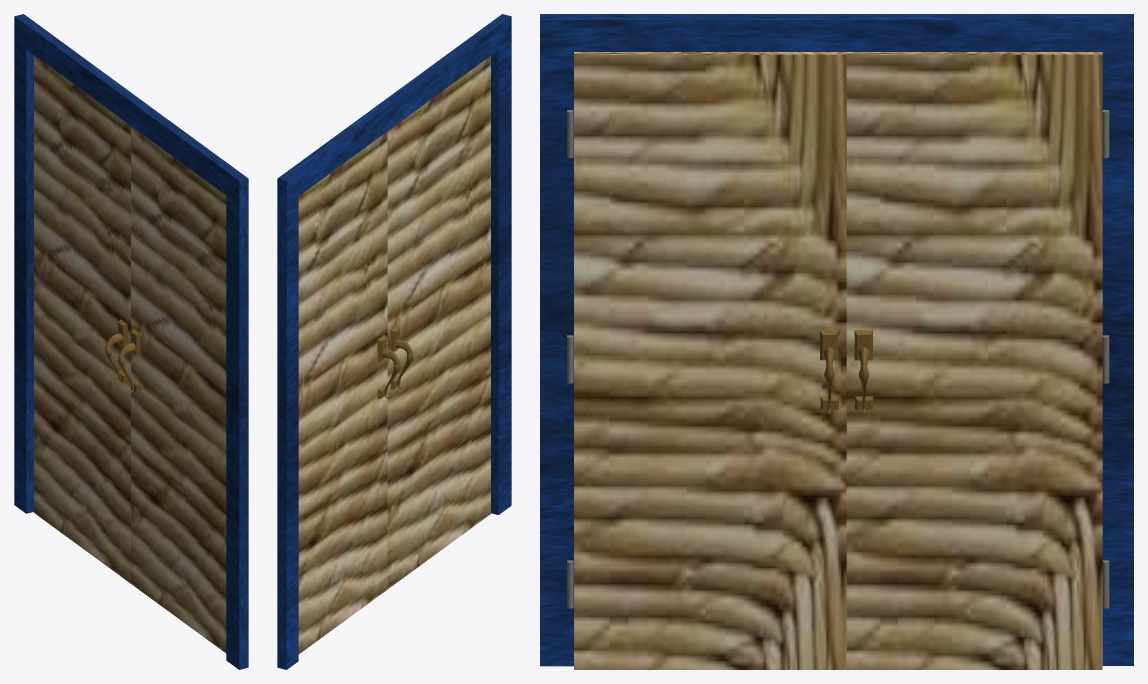
File: Portone_Esterno_Casa.fbx
3 views of the same model, side by side, from view 1: azimuth 30°, elevation 25°; view 2: azimuth 150°, elevation 25°; view 3: azimuth 270°, elevation 25° (orthographic). The views are drawn at different scales.
Parts seen in each view (by area): view 1: Anta Sinistra Portone.dx, Anta Sinistra Portone.sx, Cornice Porta Interna; view 2: Anta Sinistra Portone.sx, Anta Sinistra Portone.dx, Cornice Porta Interna; view 3: Anta Sinistra Portone.sx, Anta Sinistra Portone.dx, Cornice Porta Interna.
Boxes of the visible parts, box(x1,y1,x2,y2) form: Anta Sinistra Portone.dx: box(34, 55, 130, 583); Anta Sinistra Portone.sx: box(118, 126, 226, 653); Cornice Porta Interna: box(14, 14, 248, 669); Anta Sinistra Portone.sx: box(387, 56, 490, 588); Anta Sinistra Portone.dx: box(298, 131, 400, 654); Cornice Porta Interna: box(277, 14, 511, 669); Anta Sinistra Portone.sx: box(567, 52, 846, 669); Anta Sinistra Portone.dx: box(846, 52, 1109, 669); Cornice Porta Interna: box(540, 14, 1133, 666).
Size of the model in its own units: 76.45 by 810 by 673.
